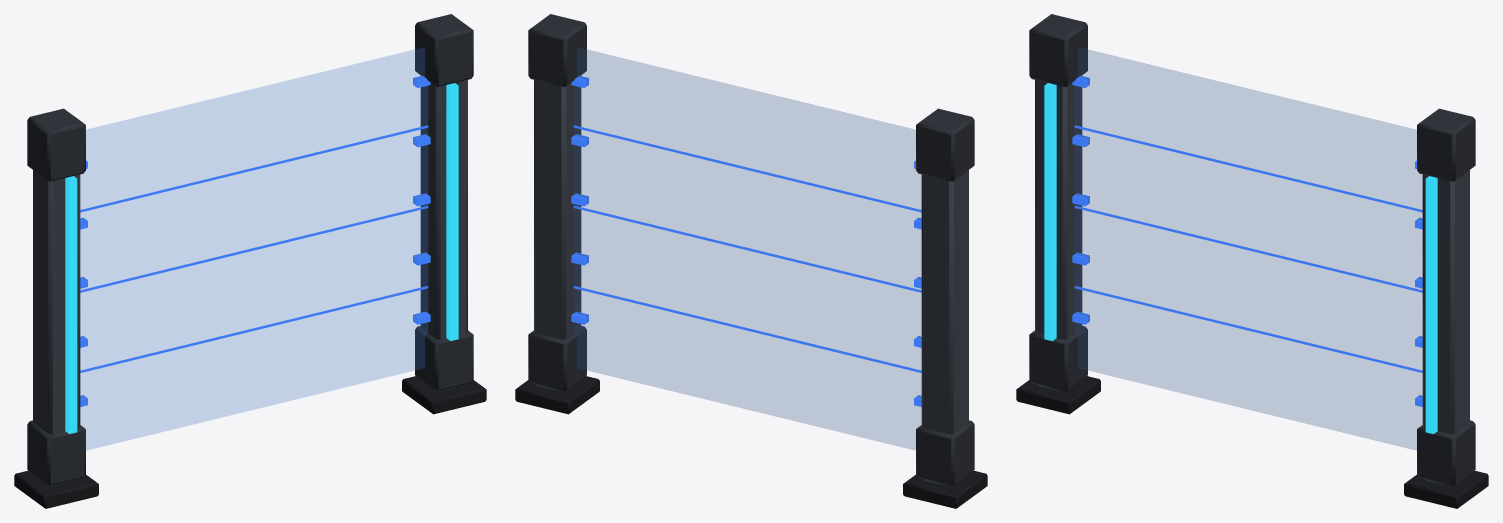
Rendered from forcefield_emitter_pair.glb.
3 views of the same model, side by side, from view 1: azimuth 30°, elevation 25°; view 2: azimuth 150°, elevation 25°; view 3: azimuth 330°, elevation 25° (orthographic).
Visible parts, largest first — view 1: forcefield_emitter_pair; view 2: forcefield_emitter_pair; view 3: forcefield_emitter_pair.
Part boxes in pixels (x1,y1,x2,y2): forcefield_emitter_pair: [14, 14, 486, 508]; forcefield_emitter_pair: [515, 14, 987, 508]; forcefield_emitter_pair: [1016, 14, 1488, 508].
Size of the model in its own units: 2.74 by 2.2 by 0.34.
